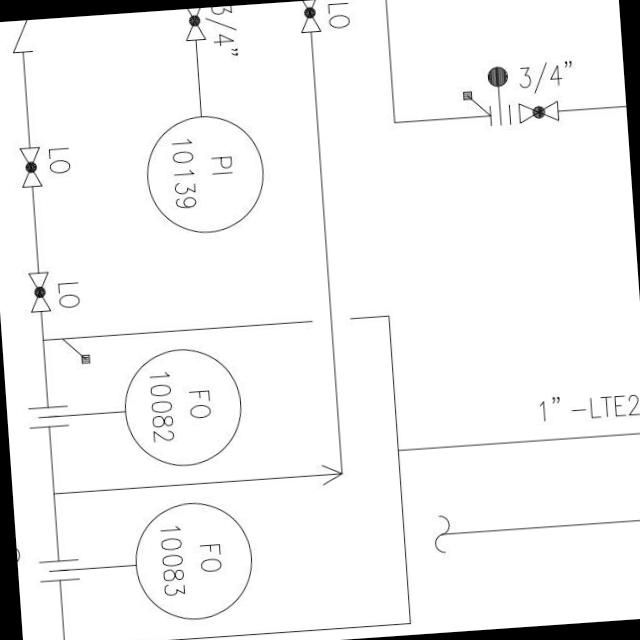BV2: (14, 137, 46, 196), (21, 264, 55, 319), (514, 94, 564, 125)
